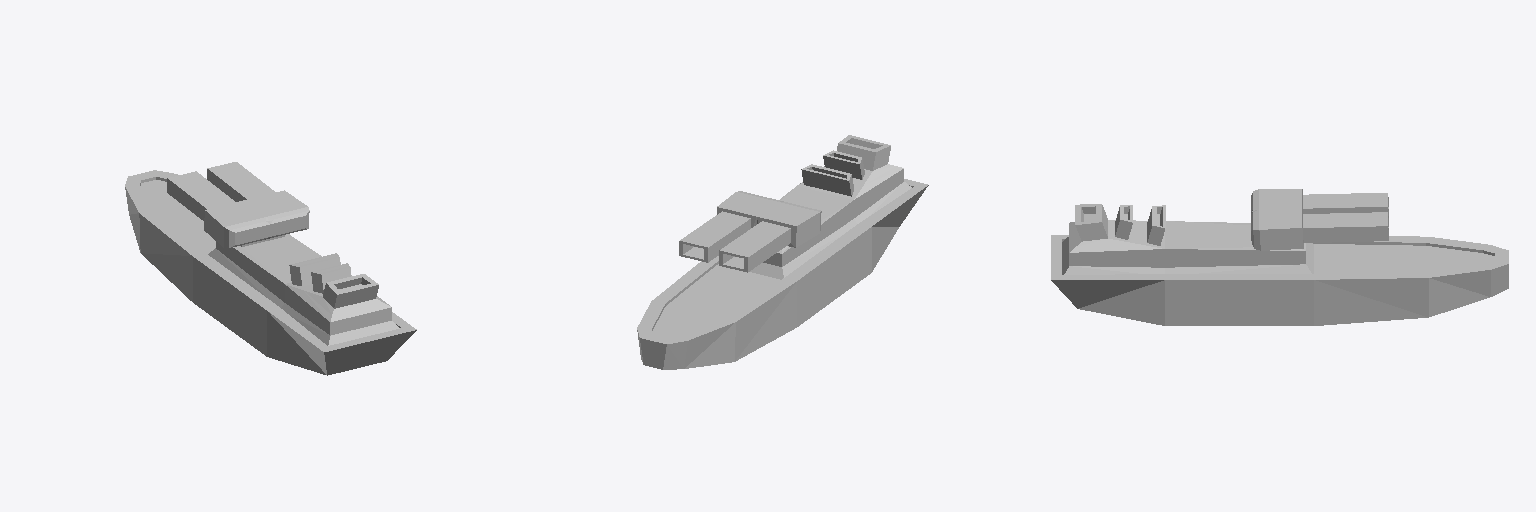
File: mShip4.obj
The picture shows the model from 3 angles: view 1: azimuth 30°, elevation 25°; view 2: azimuth 150°, elevation 25°; view 3: azimuth 270°, elevation 25°; orthographic projection.
Size of the model in its own units: 0.0425 by 0.0416 by 0.1818.